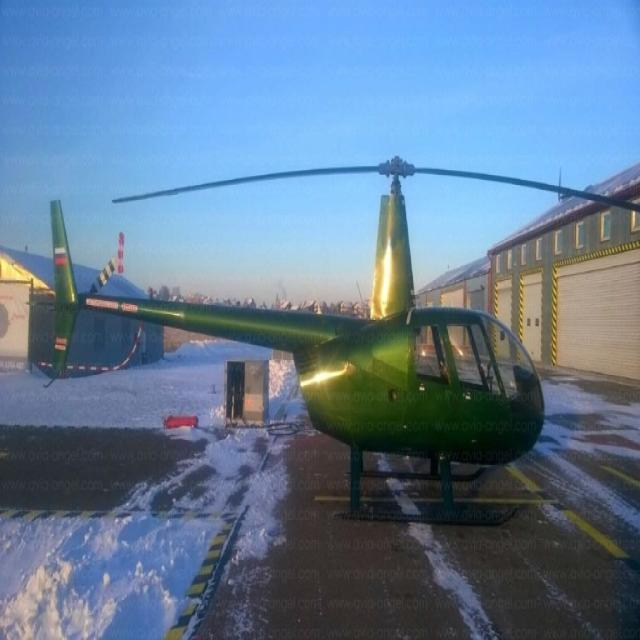CIV_HELO: (47, 154, 548, 531)
